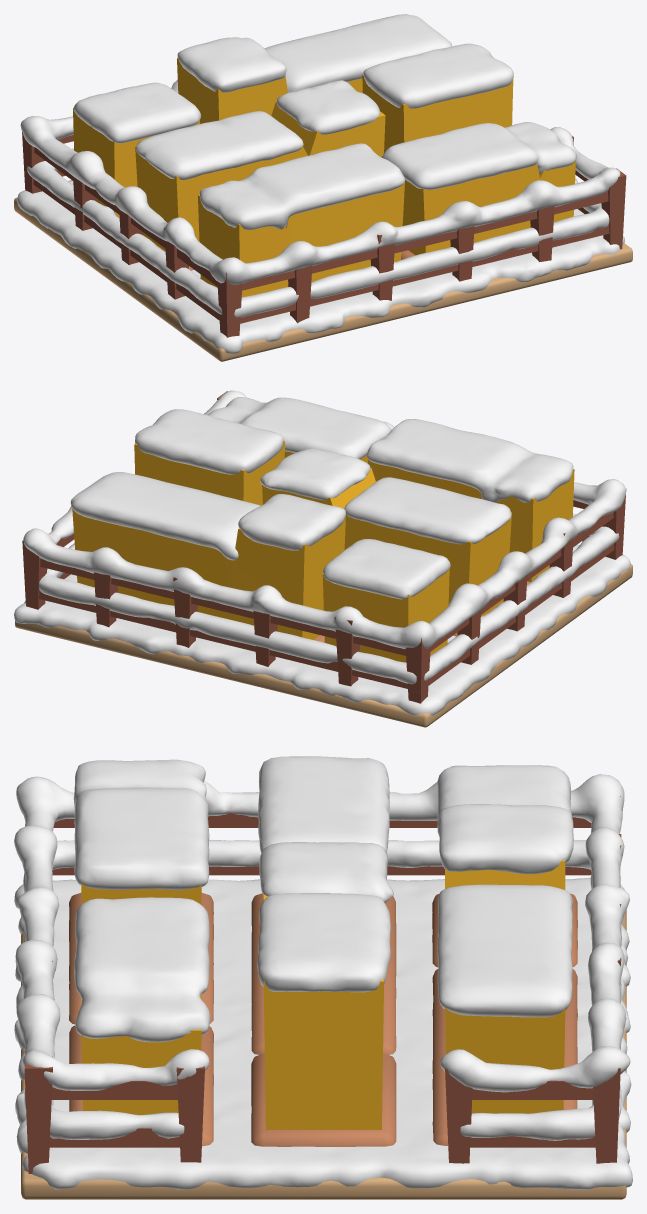
File: farm_plot.fbx
3 renders of one model, top to bottom at view 1: azimuth 30°, elevation 25°; view 2: azimuth 150°, elevation 25°; view 3: azimuth 270°, elevation 25°, orthographic. The views are drawn at different scales.
Parts seen in each view (by area): view 1: SnowBall.001, farm_wheat, SnowBall.003, farm_plot, SnowBall.002, farm_plot.002; view 2: SnowBall.001, farm_wheat, SnowBall.003, SnowBall.002, farm_plot, farm_plot.002; view 3: SnowBall.001, SnowBall.002, SnowBall.003, farm_wheat, farm_plot, farm_plot.001, farm_plot.002.
Part boxes in pixels (box(x1,y1,x2,y2)): SnowBall.001: box(73, 14, 576, 230); farm_wheat: box(73, 57, 575, 297); SnowBall.003: box(20, 80, 620, 317); farm_plot: box(22, 132, 626, 337); SnowBall.002: box(17, 180, 624, 353); farm_plot.002: box(14, 197, 632, 361); SnowBall.001: box(70, 397, 573, 599); farm_wheat: box(72, 440, 574, 662); SnowBall.003: box(23, 390, 626, 684); SnowBall.002: box(14, 544, 630, 715); farm_plot: box(22, 391, 626, 703); farm_plot.002: box(15, 564, 632, 727); SnowBall.001: box(73, 756, 573, 1042); SnowBall.002: box(14, 877, 632, 1189); SnowBall.003: box(14, 774, 630, 1140); farm_wheat: box(81, 860, 565, 1129); farm_plot: box(24, 796, 621, 1173); farm_plot.001: box(69, 893, 577, 1146); farm_plot.002: box(21, 890, 626, 1199).
Size of the model in its own units: 150 by 49.17 by 131.
